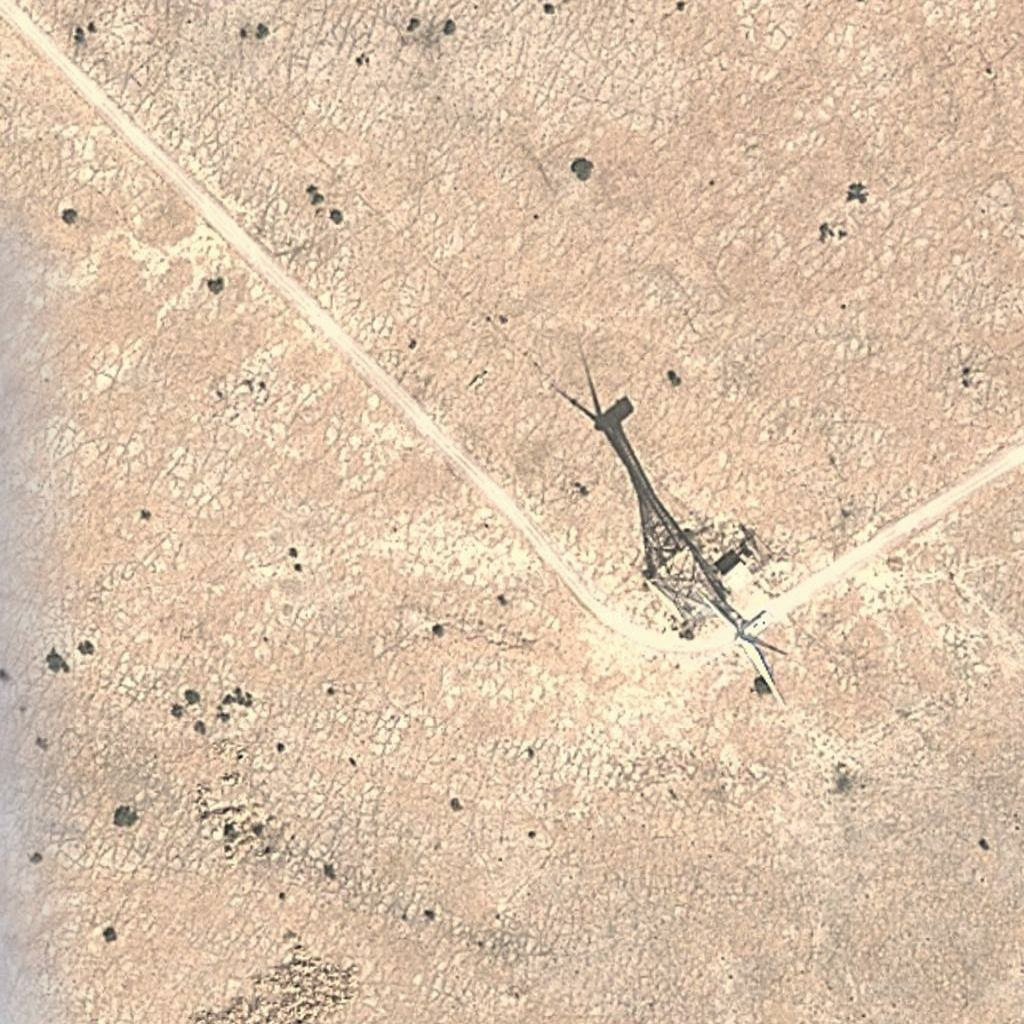Windmill: (541, 370, 710, 585)
